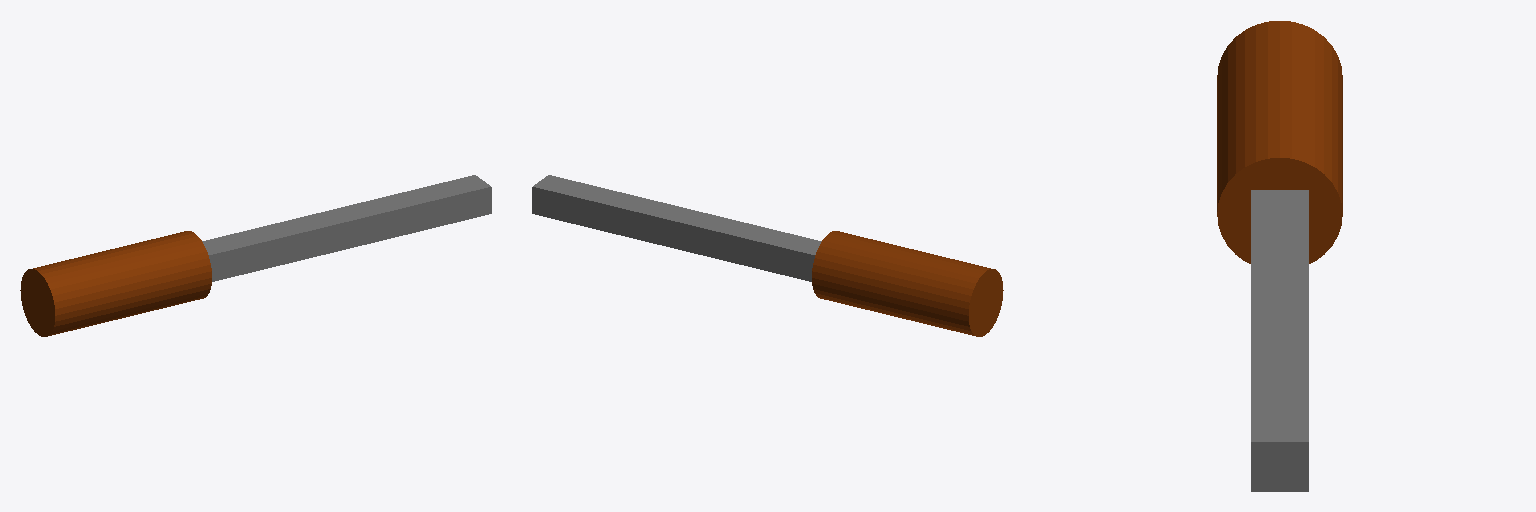
The robot description file, URDF, robot "handle_head":
<?xml version="1.0"?>
<robot name="handle_head">

  <link name="handle_head">
    <!-- Handle -->
    <visual>
              <origin xyz="0 0 0" rpy="0 -1.5707963267948966 0"/>
        <geometry>
          <cylinder length="0.0757568319754953" radius="0.014649661907981594"/>
        </geometry>
        
      <material name="brown">
        <color rgba="0.55 0.27 0.07 1.0"/>
      </material>
    </visual>
    <collision>
              <origin xyz="0 0 0" rpy="0 -1.5707963267948966 0"/>
        <geometry>
          <cylinder length="0.0757568319754953" radius="0.014649661907981594"/>
        </geometry>
        
    </collision>

    <!-- Head -->
    <visual>
              <origin xyz="0.10760898981928402 0 0" rpy="0 0 0"/>
        <geometry>
          <box size="0.13946114766307272 0.013580722046950542 0.012646801340654974"/>
        </geometry>
        
      <material name="gray">
        <color rgba="0.5 0.5 0.5 1.0"/>
      </material>
    </visual>
    <collision>
              <origin xyz="0.10760898981928402 0 0" rpy="0 0 0"/>
        <geometry>
          <box size="0.13946114766307272 0.013580722046950542 0.012646801340654974"/>
        </geometry>
        
    </collision>

    <inertial>
      <origin xyz="0.058672681929806354 0 0" rpy="0 0 0"/>
      <mass value="0.08214158008420501"/>
      <inertia ixx="5.1293657333832516e-06" iyy="0.0003396604753415945" izz="0.00033975189434443445" ixy="0" ixz="0" iyz="0"/>
    </inertial>
  </link>

</robot>

--- Render facts (derived) ---
Views: 3 orthographic renders of the robot side by side, from view 1: azimuth 30°, elevation 25°; view 2: azimuth 150°, elevation 25°; view 3: azimuth 270°, elevation 25°.
Model handle_head with 1 links and 0 joints (none), rooted at handle_head, posed all joints at 0.
Links seen in each view (by area): view 1: handle_head; view 2: handle_head; view 3: handle_head.
Link boxes in pixels (x1,y1,x2,y2): handle_head: [20, 175, 491, 336]; handle_head: [532, 175, 1003, 336]; handle_head: [1217, 21, 1342, 491].
Bounding box of the posed robot: 0.2152 × 0.0293 × 0.0293 m (x, y, z).
Geometry: primitives only (box / cylinder / sphere), no mesh files.
